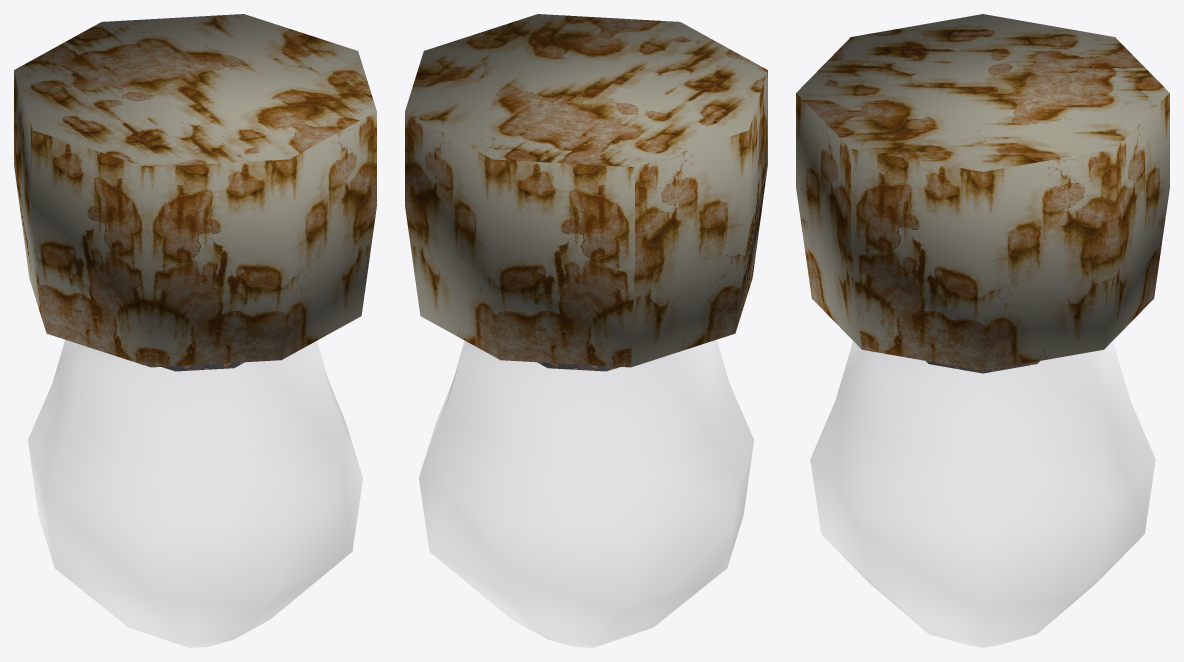
File: ceiling_fan_base.glb
3 views of the same model, side by side, from view 1: azimuth 30°, elevation 25°; view 2: azimuth 150°, elevation 25°; view 3: azimuth 270°, elevation 25° (orthographic).
Parts seen in each view (by area): view 1: CeilingFanBase; view 2: CeilingFanBase; view 3: CeilingFanBase.
Part boxes in pixels (bbox=[...]): CeilingFanBase: bbox=[14, 14, 376, 647]; CeilingFanBase: bbox=[405, 14, 767, 647]; CeilingFanBase: bbox=[796, 14, 1169, 647].
Bounding box in the file's own units: 0.4932 × 0.7927 × 0.4932.
3 materials, 2 textured.
